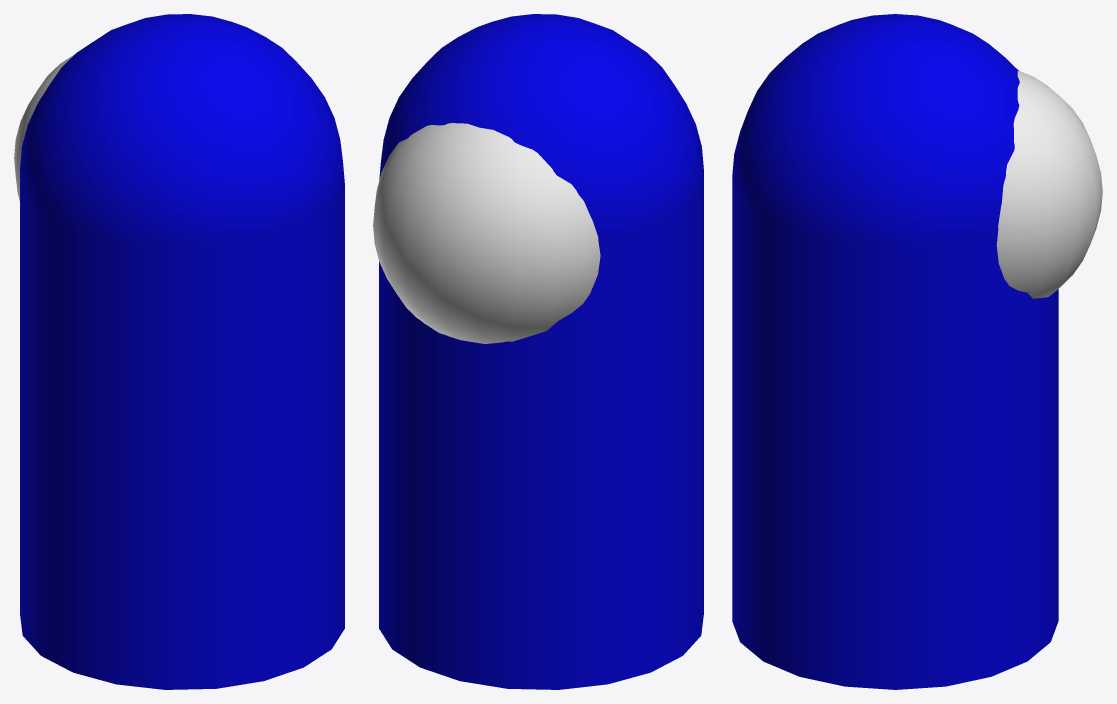
The model's file is Player01.fbx.
3 views of the same model, side by side, from view 1: azimuth 30°, elevation 25°; view 2: azimuth 150°, elevation 25°; view 3: azimuth 270°, elevation 25° (orthographic).
Visible parts, largest first — view 1: pSphere3; view 2: pSphere3; view 3: pSphere3.
Boxes of the visible parts, left/top/right/bottom form: pSphere3: left=14, top=14, right=344, bottom=689; pSphere3: left=373, top=14, right=703, bottom=689; pSphere3: left=732, top=14, right=1102, bottom=689.
Size of the model in its own units: 0.5 by 1 by 0.5676.
